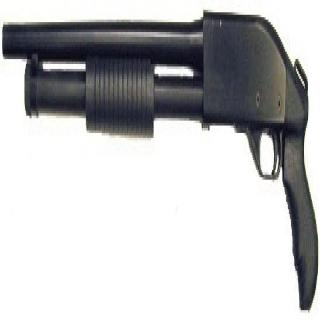gun: (1, 7, 317, 308)
